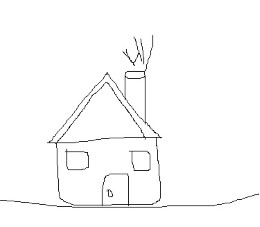door: (98, 165, 133, 211)
open_window: (64, 145, 92, 175), (127, 145, 153, 176)
roof: (44, 67, 165, 147)
smoking_chimney: (118, 33, 161, 127)
wall: (52, 134, 163, 210)
